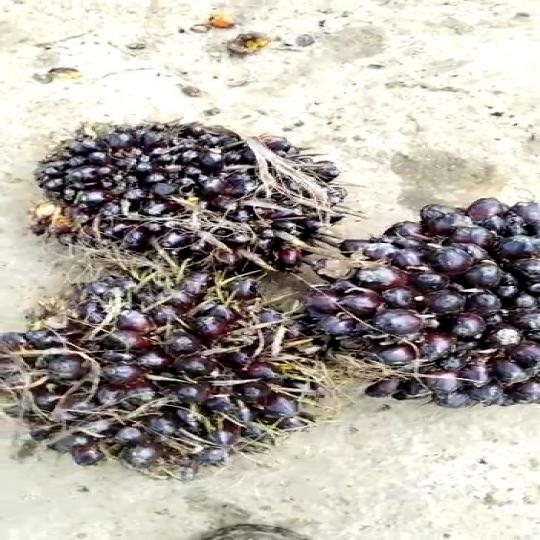mentah: (0, 277, 344, 476), (307, 191, 540, 419), (59, 116, 334, 282)
